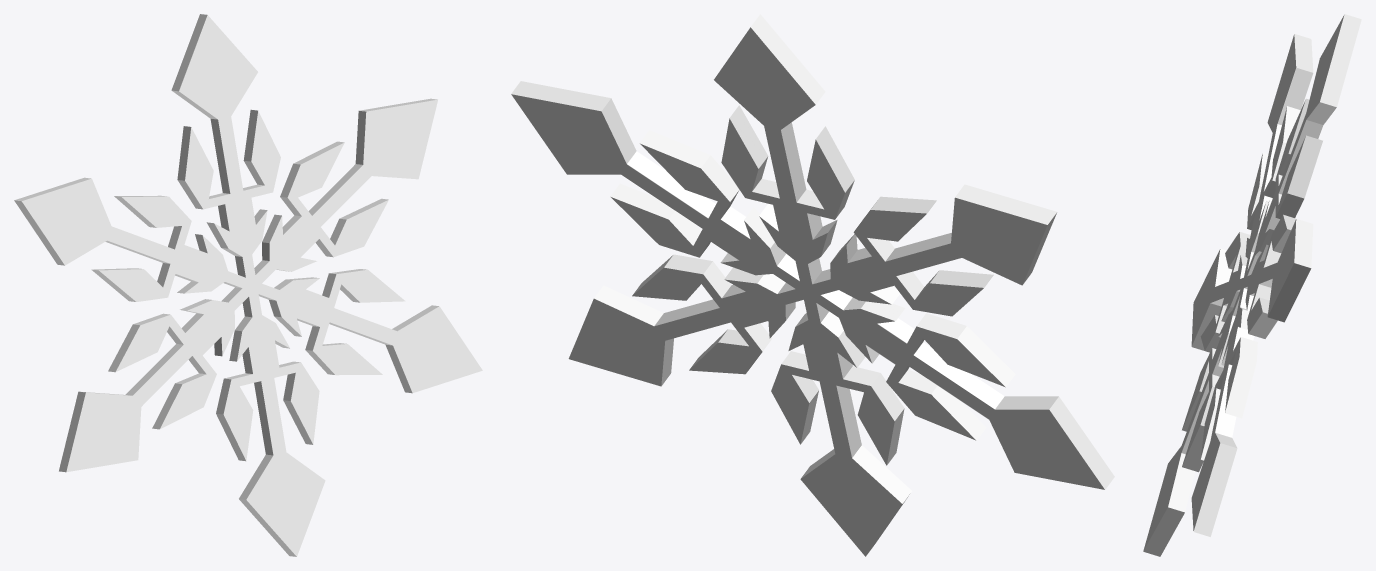
Rendered from nosesnowflake.fbx.
3 views of the same model, side by side, from view 1: azimuth 30°, elevation 25°; view 2: azimuth 150°, elevation 25°; view 3: azimuth 270°, elevation 25° (orthographic). The views are drawn at different scales.
Visible parts, largest first — view 1: nosesnowflake; view 2: nosesnowflake; view 3: nosesnowflake.
Part boxes in pixels (x1,y1,x2,y2): nosesnowflake: (14,14,482,556); nosesnowflake: (511,14,1114,556); nosesnowflake: (1143,14,1361,556).
Size of the model in its own units: 4.85 by 5.36 by 1.95.
